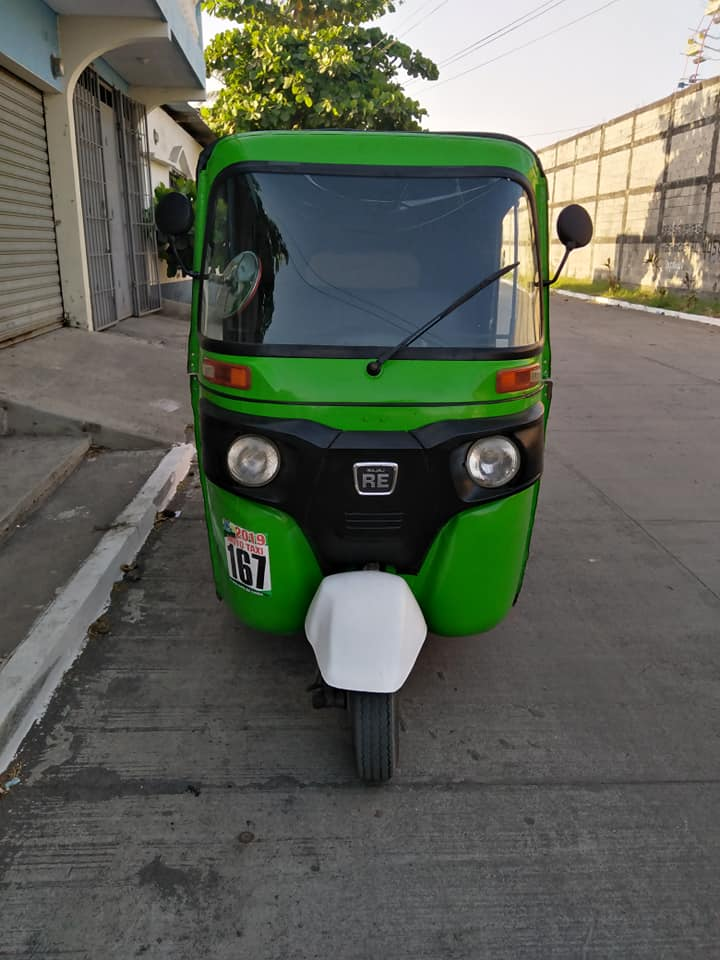mototaxi: (160, 120, 604, 784)
